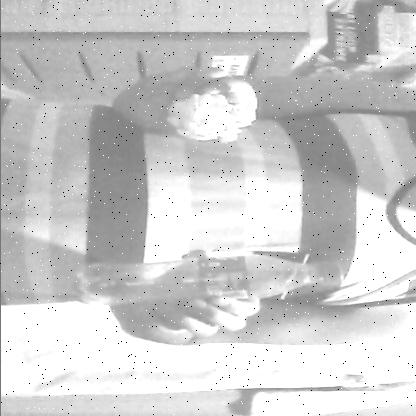Plastic Bottle: (57, 245, 355, 314)
